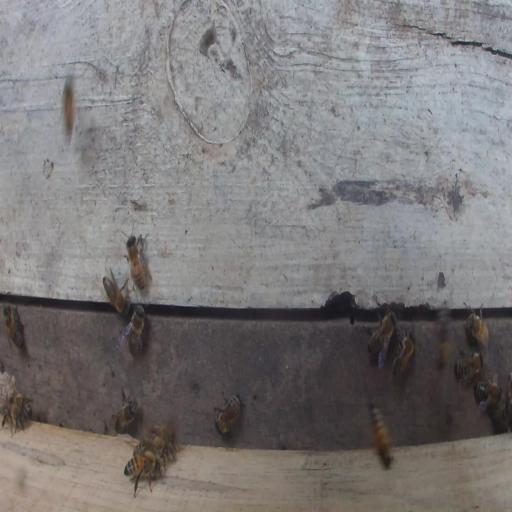nonpollenbee: (364, 307, 397, 369), (123, 445, 161, 497), (369, 403, 394, 470), (125, 233, 149, 293), (120, 303, 146, 356), (111, 385, 139, 434), (103, 268, 130, 315), (464, 303, 490, 350), (214, 391, 241, 435), (391, 330, 415, 377), (2, 303, 24, 349), (454, 350, 483, 383), (473, 379, 502, 408), (137, 431, 169, 457), (154, 425, 176, 448), (1, 403, 23, 425), (15, 395, 32, 417), (456, 349, 456, 349)
